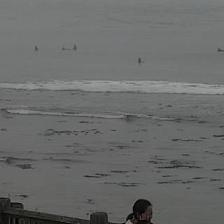surfer: (61, 47, 71, 51), (72, 44, 78, 50), (216, 48, 224, 52), (138, 57, 141, 64), (34, 46, 38, 51)
